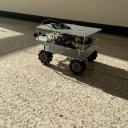cart: (36, 21, 103, 75)
